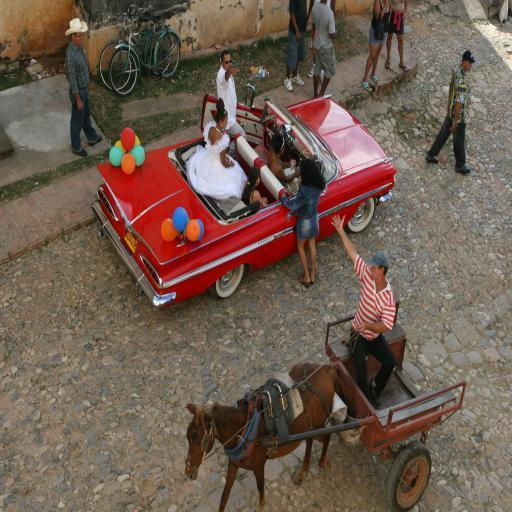horse: (184, 362, 368, 512)
